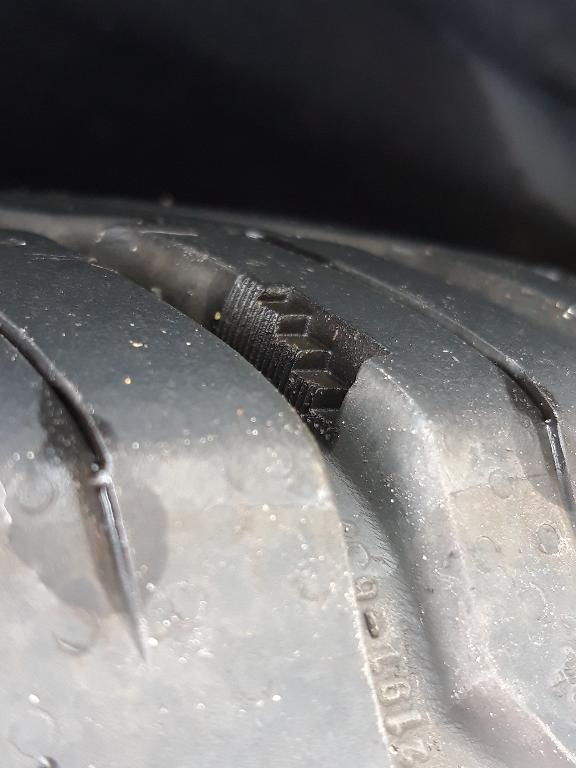temoin:90: (208, 268, 400, 449)
